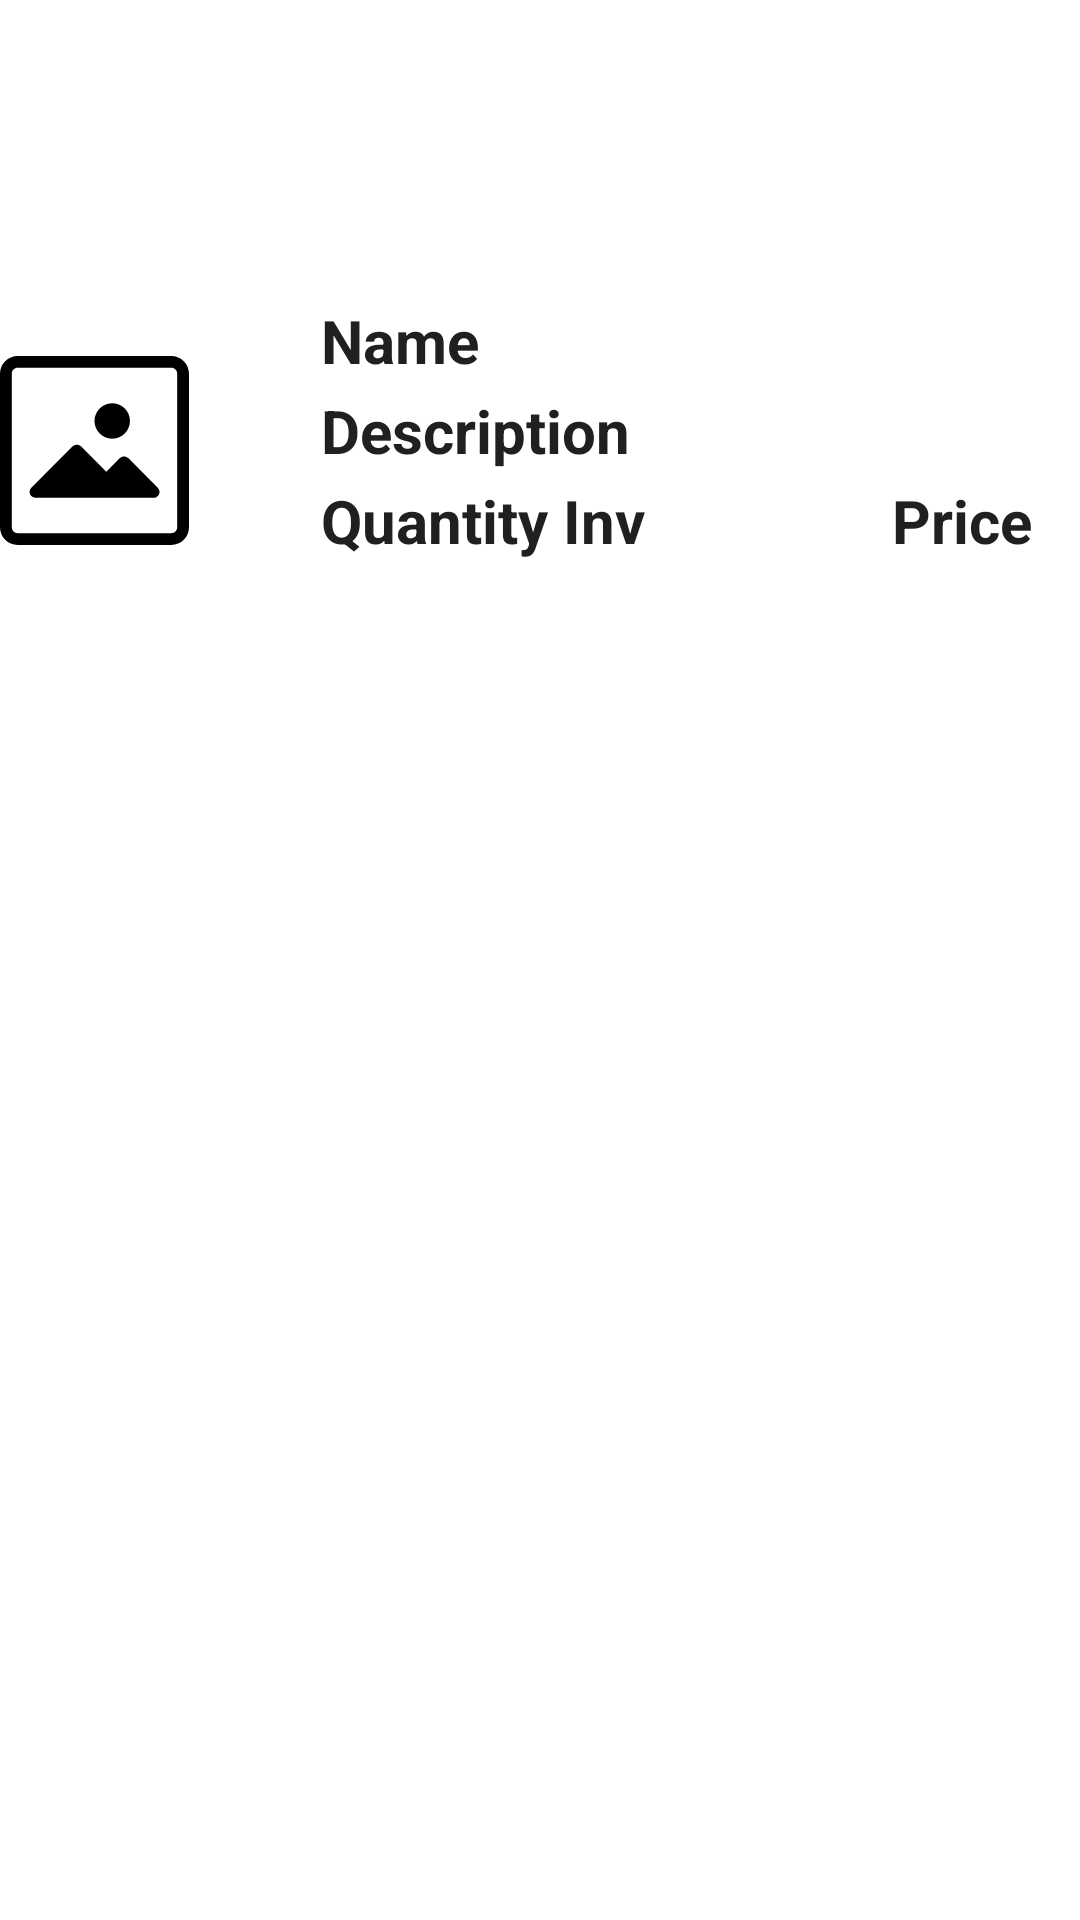

Locate icon controls on the screen. Image size 1080px x 1920px, boxes as bbox(x1, y1, x2, y2).
thumbnail: bbox(0, 356, 189, 545)
